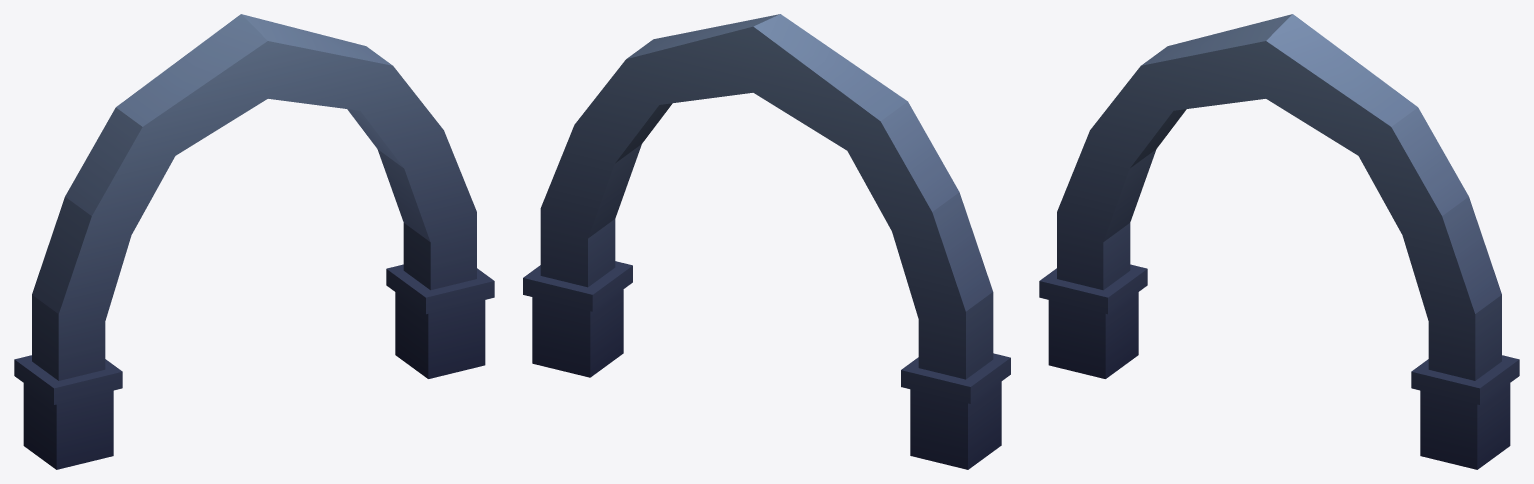
Rendered from Arch_Sanctuary.fbx.
The picture shows the model from 3 angles, left to right: view 1: azimuth 30°, elevation 25°; view 2: azimuth 150°, elevation 25°; view 3: azimuth 330°, elevation 25°; orthographic projection.
Visible parts, largest first — view 1: Arch_Sanctuary.001; view 2: Arch_Sanctuary.001; view 3: Arch_Sanctuary.001.
Part boxes in pixels (box(x1,y1,x2,y2)): Arch_Sanctuary.001: box(14, 14, 494, 469); Arch_Sanctuary.001: box(523, 14, 1010, 469); Arch_Sanctuary.001: box(1039, 14, 1519, 469).
Size of the model in its own units: 5027 by 4164 by 784.
Materials: 1 (1 with a texture image).
